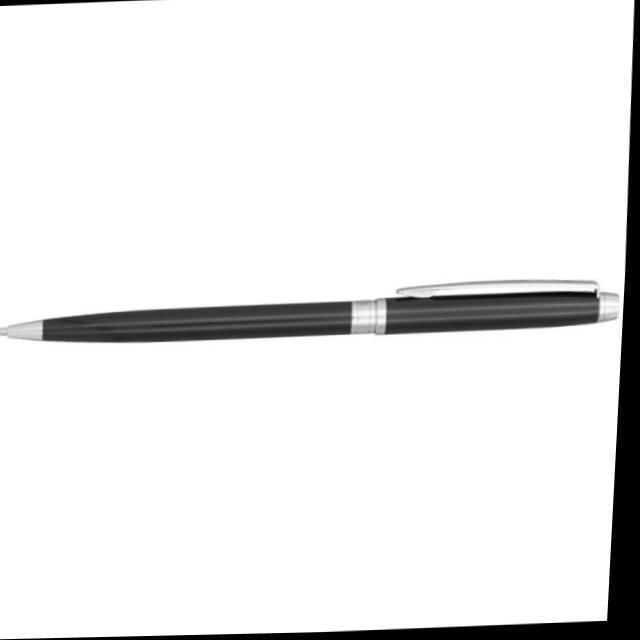pencil: (0, 255, 628, 389)
